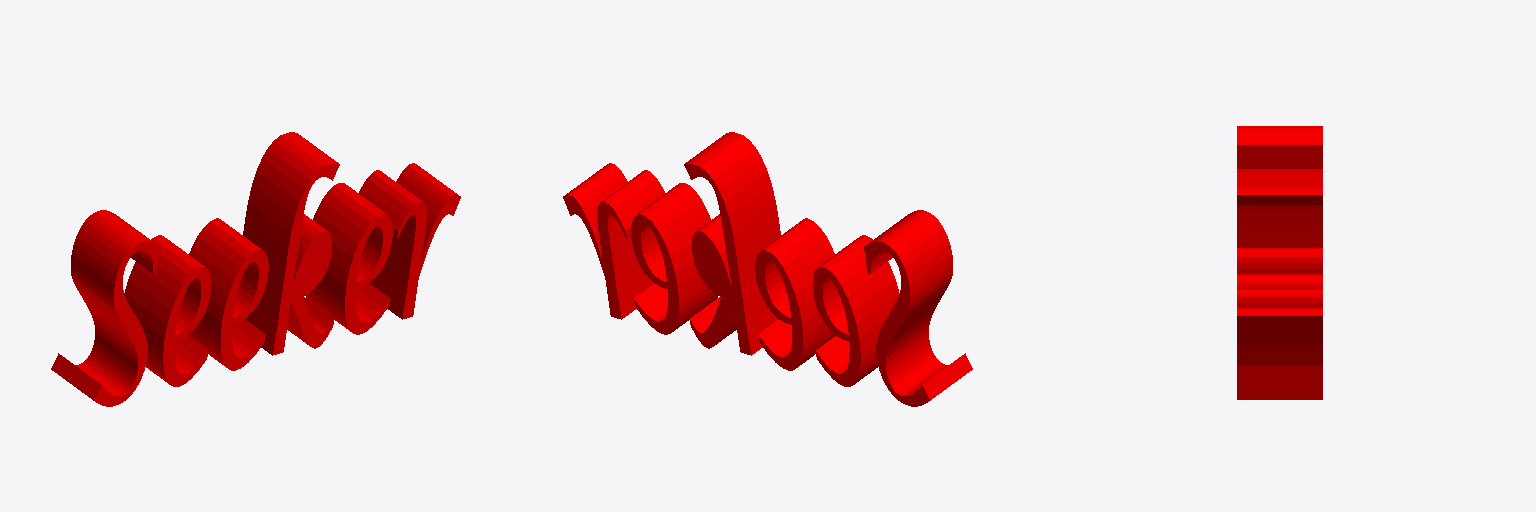
File: maintile.obj
3 views of the same model, side by side, from view 1: azimuth 30°, elevation 25°; view 2: azimuth 150°, elevation 25°; view 3: azimuth 270°, elevation 25° (orthographic).
Parts seen in each view (by area): view 1: Object.1, Object.6, Object.4, Object.2, Object.3, Object.5; view 2: Object.1, Object.6, Object.4, Object.2, Object.3, Object.5; view 3: Object.5, Object.1, Object.6, Object.4.
Boxes of the visible parts, x1,y1,x2,y2 form: Object.1: [243, 132, 339, 355]; Object.6: [51, 210, 159, 406]; Object.4: [305, 183, 392, 334]; Object.2: [124, 235, 210, 386]; Object.3: [188, 218, 268, 370]; Object.5: [359, 163, 460, 319]; Object.1: [684, 132, 780, 355]; Object.6: [864, 210, 972, 406]; Object.4: [631, 183, 718, 334]; Object.2: [813, 235, 899, 386]; Object.3: [755, 218, 835, 370]; Object.5: [563, 163, 664, 319]; Object.5: [1237, 289, 1322, 399]; Object.1: [1237, 185, 1322, 273]; Object.6: [1237, 126, 1322, 184]; Object.4: [1237, 274, 1322, 288].
Size of the model in its own units: 136 by 66.9 by 27.58.